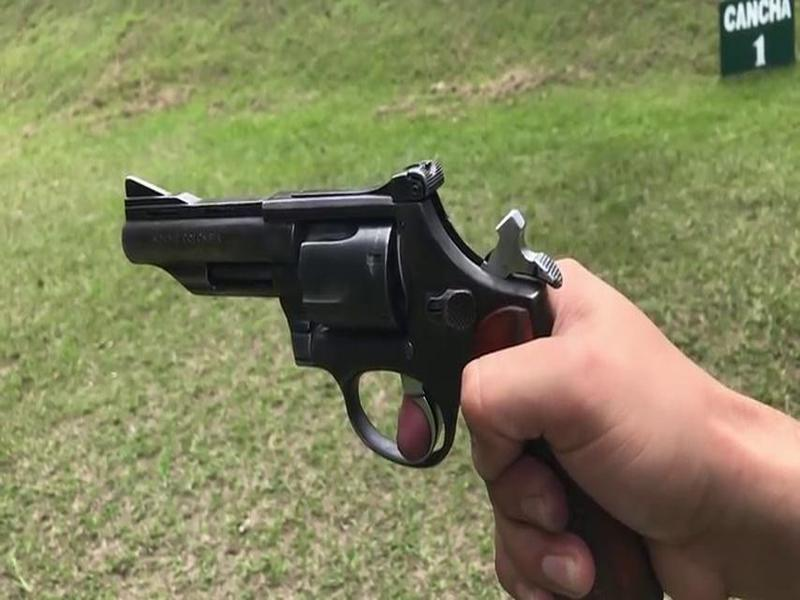Revolver: (108, 141, 571, 484)
